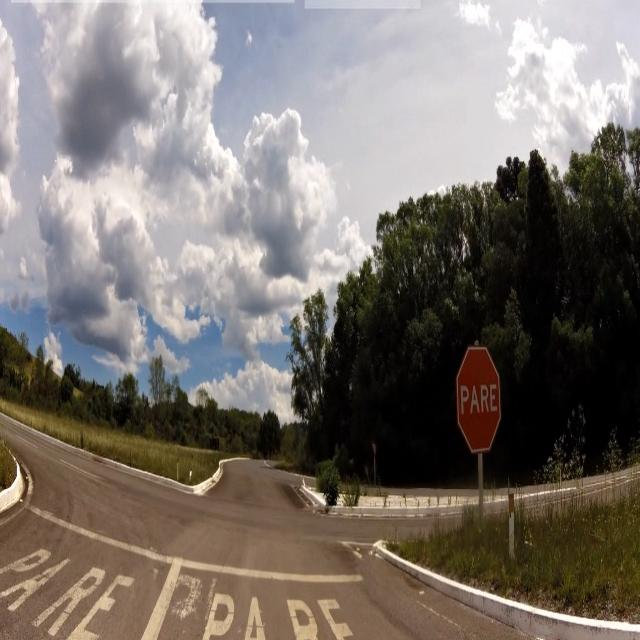R-1: (454, 342, 501, 458)
